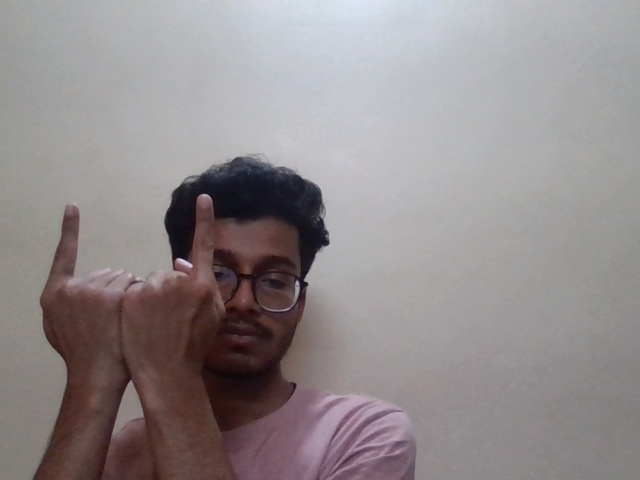when: (47, 178, 255, 359)
